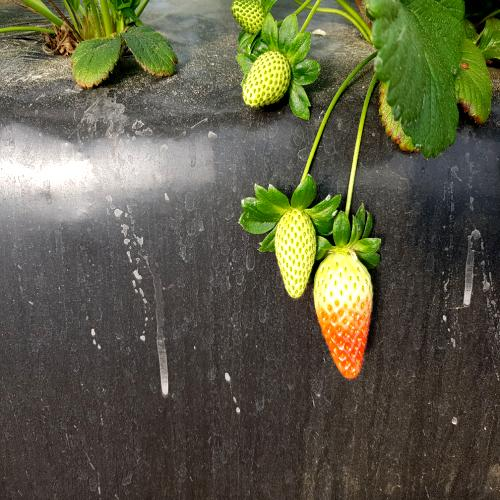partially-ripe: (313, 250, 378, 386)
unripe: (274, 205, 315, 300)
